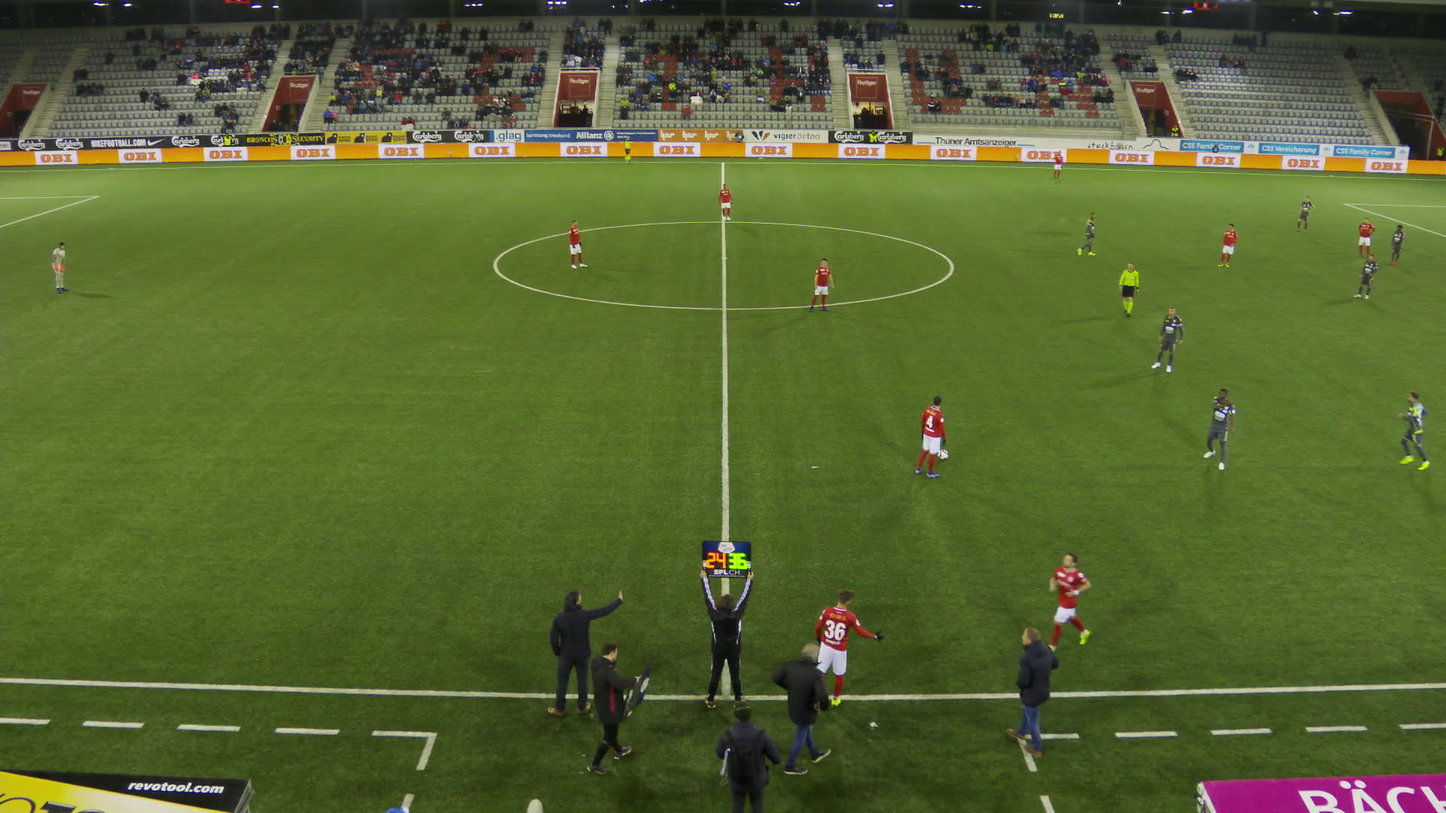ball: (938, 449, 948, 461)
player: (811, 589, 884, 708), (1046, 553, 1095, 648), (915, 395, 950, 478), (1398, 394, 1435, 470), (1201, 388, 1235, 470), (1149, 305, 1183, 373), (807, 257, 833, 312), (1350, 254, 1377, 300), (1075, 212, 1098, 257), (1216, 223, 1238, 268), (51, 242, 69, 293), (569, 220, 587, 269), (1293, 195, 1313, 233), (1356, 218, 1374, 260), (1387, 224, 1405, 265), (718, 183, 732, 221), (1051, 151, 1063, 180)
referee: (1116, 262, 1139, 318), (621, 138, 632, 163)
